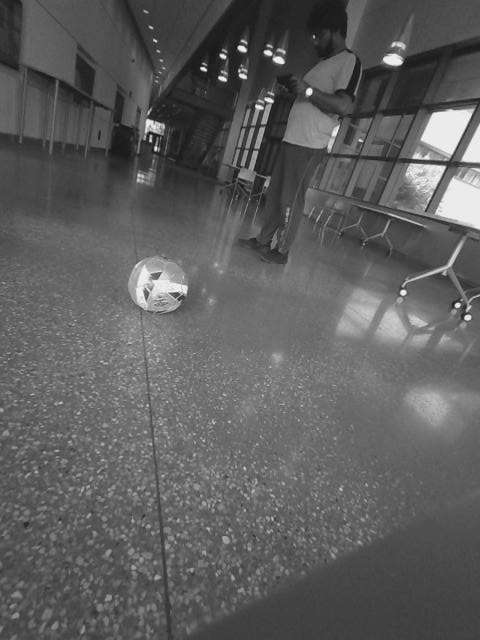ball: (125, 251, 193, 317)
